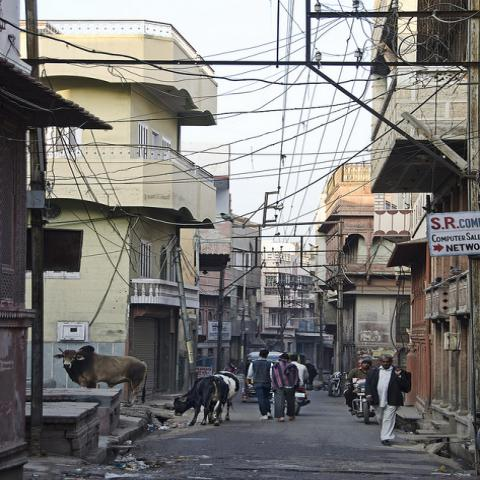car: (244, 351, 284, 360)
motorcycle: (347, 382, 375, 425), (327, 372, 350, 396), (294, 386, 312, 415), (223, 362, 237, 374)
